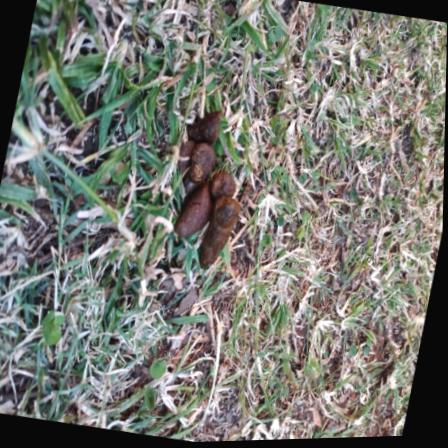dog-poop: (165, 108, 257, 270)
